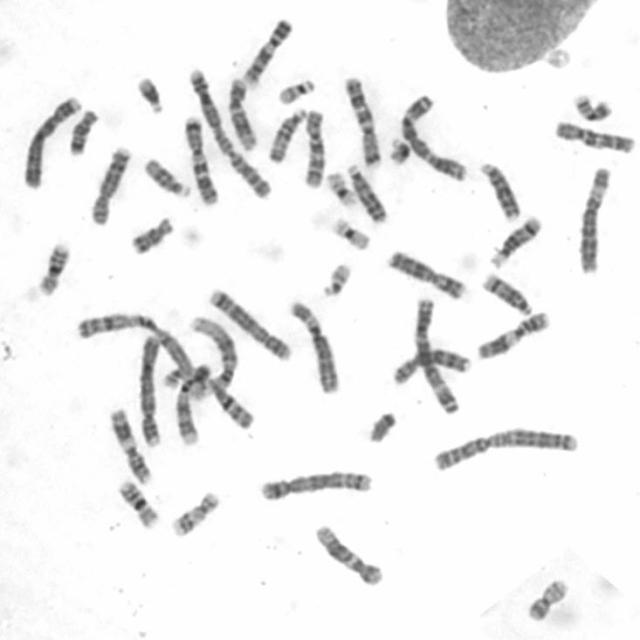A1: (73, 308, 213, 399), (184, 314, 240, 405)
A2: (184, 64, 274, 200), (428, 423, 580, 473)
A3: (395, 90, 469, 183), (411, 293, 461, 415)
B4: (18, 91, 84, 191), (134, 329, 162, 448)
B5: (206, 285, 293, 362), (256, 467, 374, 502)
C10: (551, 117, 636, 155), (300, 105, 328, 191)
C11: (472, 307, 551, 361), (105, 404, 153, 484)
C12: (310, 520, 384, 589), (224, 74, 258, 154)
C6: (286, 296, 341, 395), (574, 162, 614, 277)
C7: (179, 112, 221, 207), (342, 72, 382, 169)
C8: (86, 142, 134, 226), (388, 344, 472, 387)
C9: (240, 15, 294, 87), (171, 360, 213, 448)
D13: (476, 157, 521, 222), (344, 160, 388, 223)
D14: (486, 212, 544, 270), (479, 270, 534, 318)
D15: (265, 105, 308, 164), (142, 153, 192, 199)
E16: (115, 476, 161, 529), (36, 240, 72, 296)
E17: (168, 487, 222, 539), (162, 362, 214, 392)
E18: (126, 214, 176, 256), (66, 106, 100, 156)
F19: (328, 214, 372, 252), (323, 170, 359, 208)
F20: (524, 575, 571, 622), (571, 90, 614, 122)
G21: (134, 73, 167, 116), (385, 133, 413, 167)
G22: (318, 259, 354, 298), (274, 76, 316, 106)
X: (383, 247, 468, 301)
Y: (363, 408, 398, 445)
